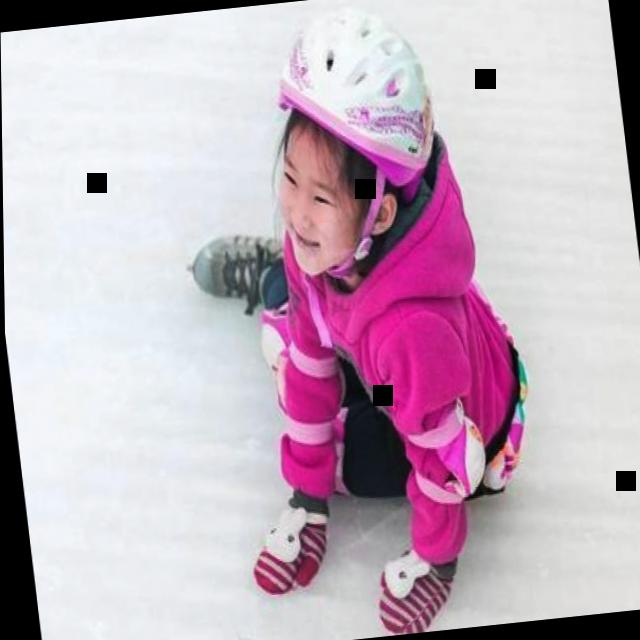Fall-Detected: (148, 0, 578, 640)
